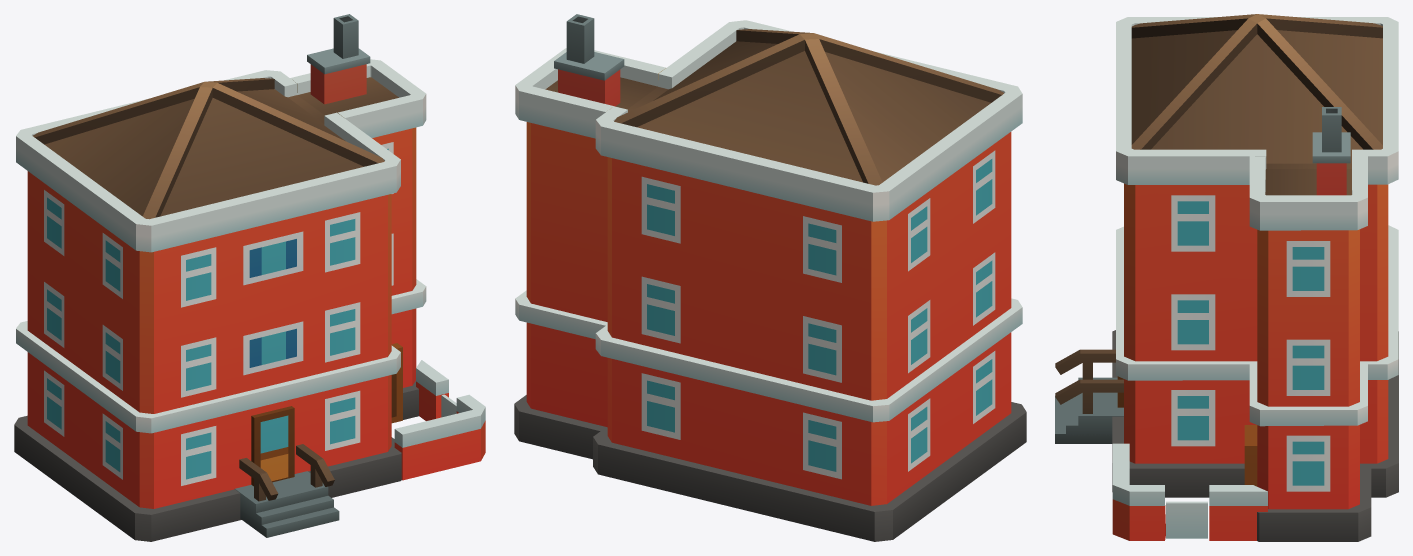
File: Building_cartoon_6.fbx
3 renders of one model, left to right at view 1: azimuth 30°, elevation 25°; view 2: azimuth 150°, elevation 25°; view 3: azimuth 270°, elevation 25°, orthographic. The views are drawn at different scales.
Parts seen in each view (by area): view 1: Building_cartoon_6; view 2: Building_cartoon_6; view 3: Building_cartoon_6.
Part boxes in pixels (x1,y1,x2,y2): Building_cartoon_6: (14,14,485,541); Building_cartoon_6: (514,14,1026,541); Building_cartoon_6: (1055,14,1398,541).
Size of the model in its own units: 1289 by 1313 by 1002.
